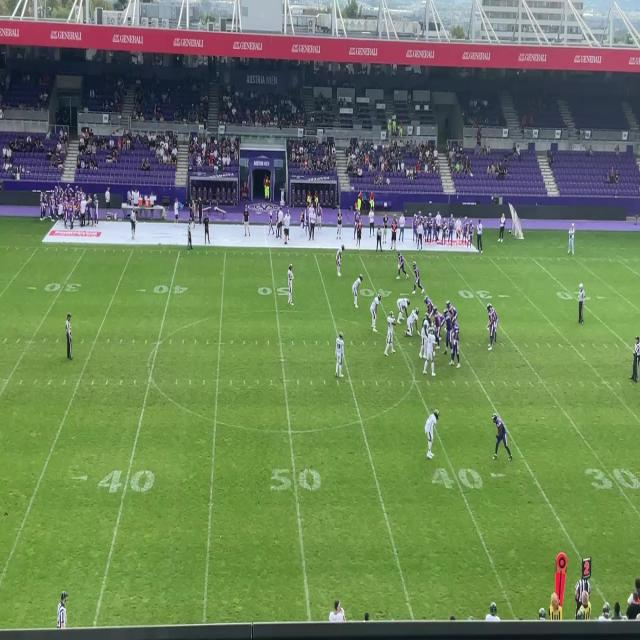3: (583, 464, 614, 495)
4: (96, 465, 126, 499), (430, 461, 456, 495)
5: (266, 462, 293, 498)
american-football-players: (491, 413, 512, 462), (424, 409, 439, 458), (422, 332, 436, 379), (384, 309, 396, 359), (419, 314, 431, 358), (335, 333, 347, 375), (450, 318, 460, 368), (410, 262, 423, 294), (485, 302, 494, 348), (334, 246, 346, 280), (434, 307, 445, 342), (396, 296, 410, 323), (350, 276, 361, 310), (371, 294, 381, 331), (444, 310, 452, 356), (406, 306, 418, 336), (491, 306, 500, 344), (396, 253, 408, 280), (446, 299, 457, 327), (288, 264, 294, 306), (423, 295, 434, 317)
